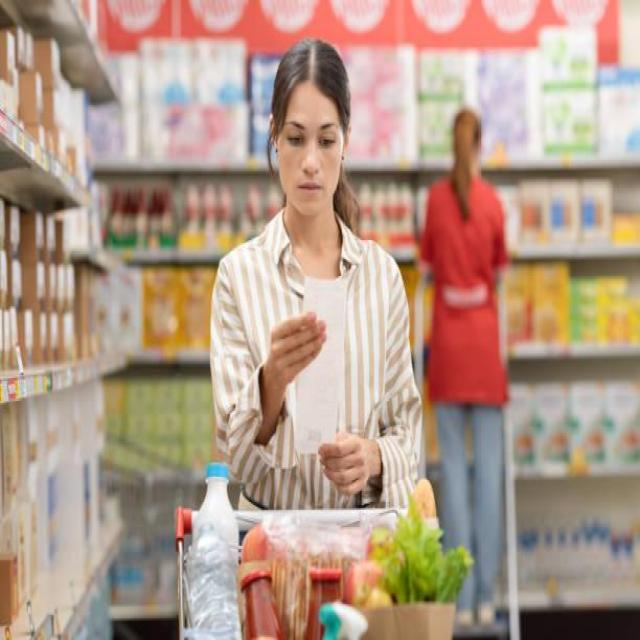hands: (255, 312, 325, 442), (317, 431, 380, 494)
person: (210, 39, 420, 508)
